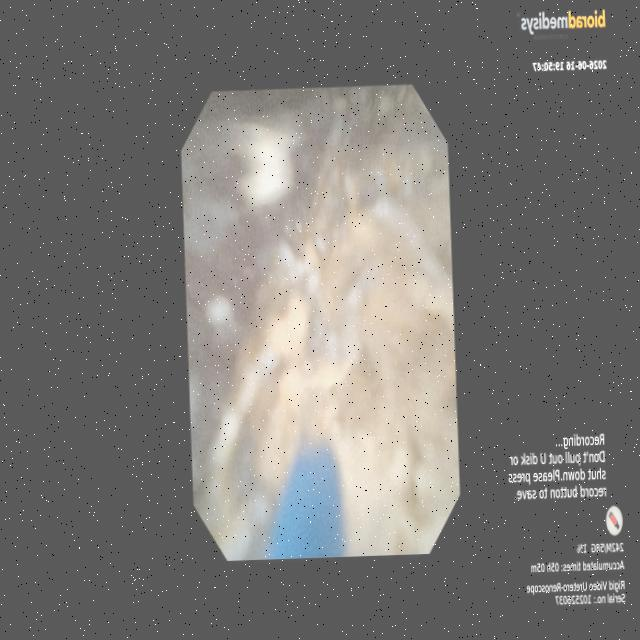stone-new: (203, 143, 459, 558)
